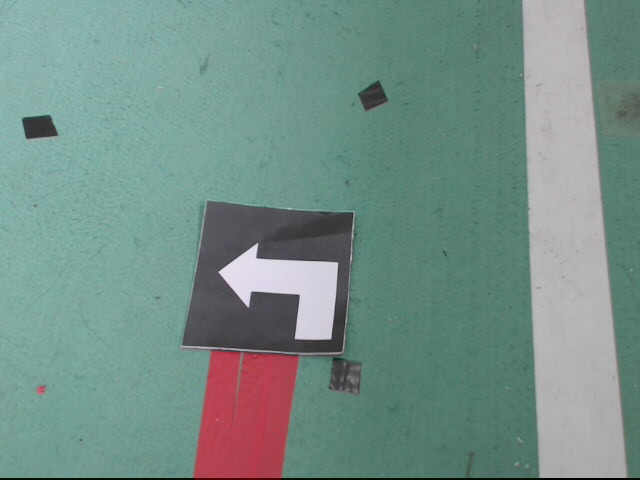left: (181, 200, 355, 356)
